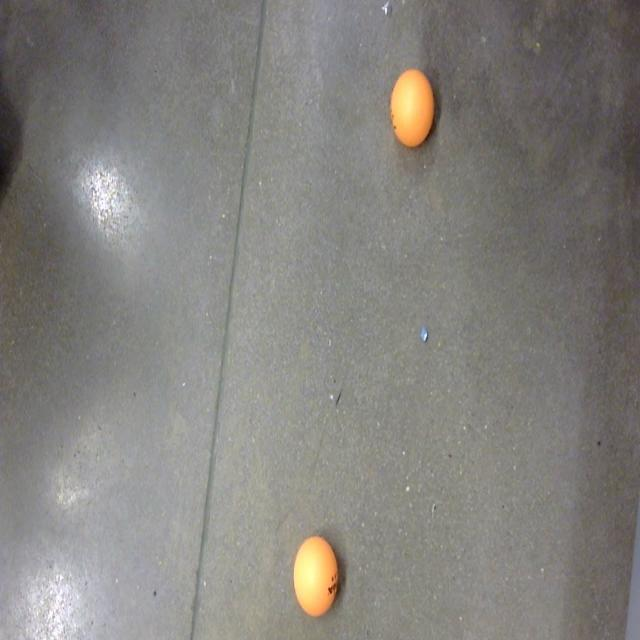ball: (292, 532, 341, 620), (390, 65, 438, 151)
